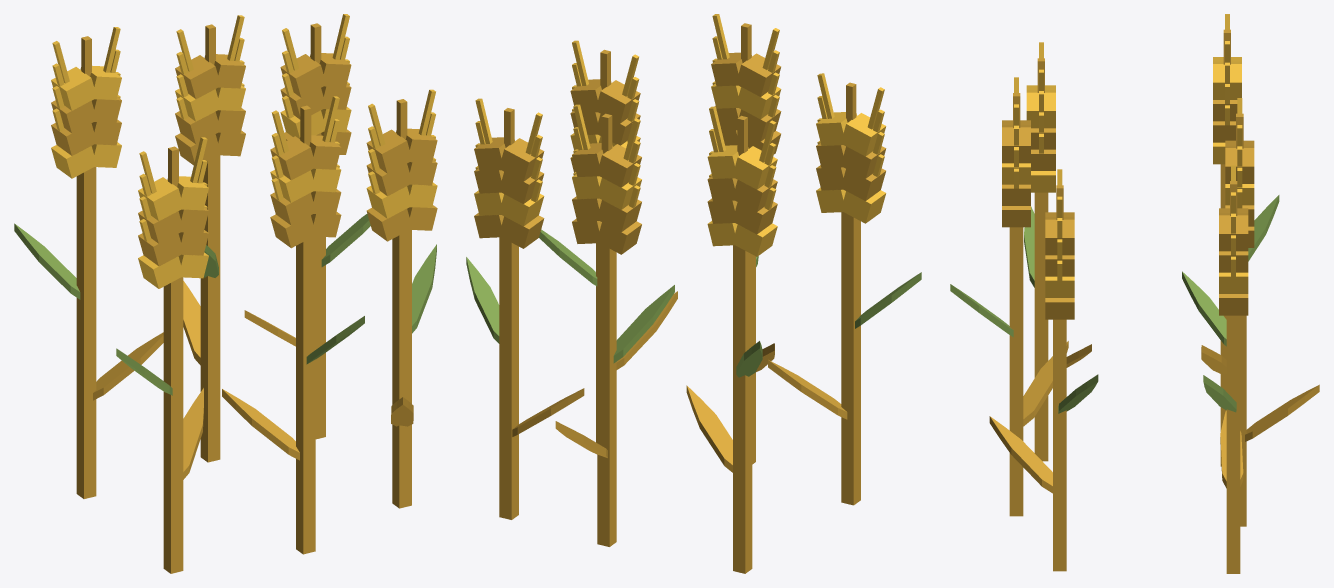
The model's file is crop_wheat_mature.glb.
3 renders of one model, left to right at view 1: azimuth 30°, elevation 25°; view 2: azimuth 150°, elevation 25°; view 3: azimuth 270°, elevation 25°, orthographic. The views are drawn at different scales.
Parts seen in each view (by area): view 1: body__hay.001, body__yellow2, body__leaf2.002; view 2: body__hay.001, body__yellow2, body__leaf2.002; view 3: body__hay.001, body__yellow2, body__leaf2.002.
Part boxes in pixels (<box>): body__hay.001: <box>51,23,437,573</box>; body__yellow2: <box>51,14,437,288</box>; body__leaf2.002: <box>14,214,436,395</box>; body__hay.001: <box>474,23,886,573</box>; body__yellow2: <box>474,14,886,256</box>; body__leaf2.002: <box>466,229,921,377</box>; body__hay.001: <box>989,29,1319,573</box>; body__yellow2: <box>1002,14,1254,297</box>; body__leaf2.002: <box>950,195,1279,413</box>.
Size of the model in its own units: 0.6472 by 0.775 by 0.5957.
